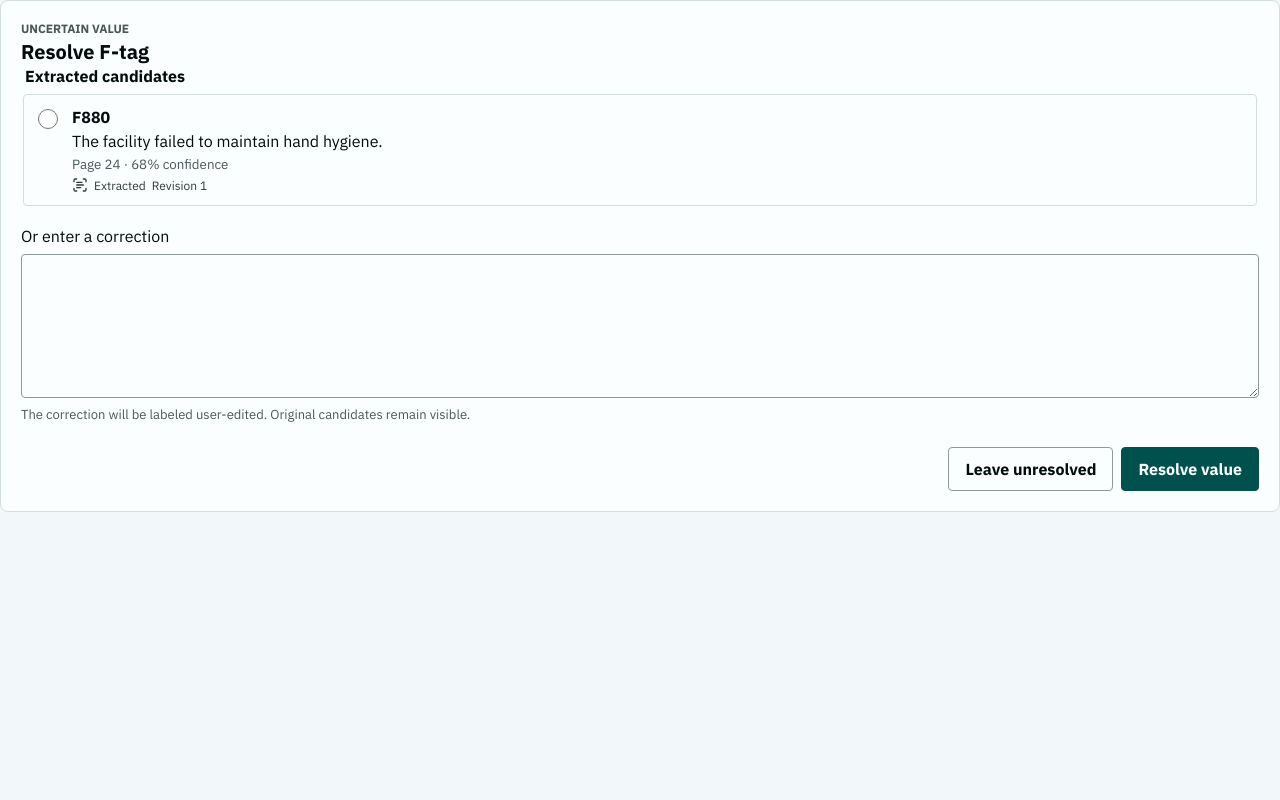
uncertainty resolution › keeps confirmation and drafting blocked when unresolved
This screenshot has width=1280, height=800.
Click the button "Leave unresolved" at [1031, 469], box [948,447,1113,491]
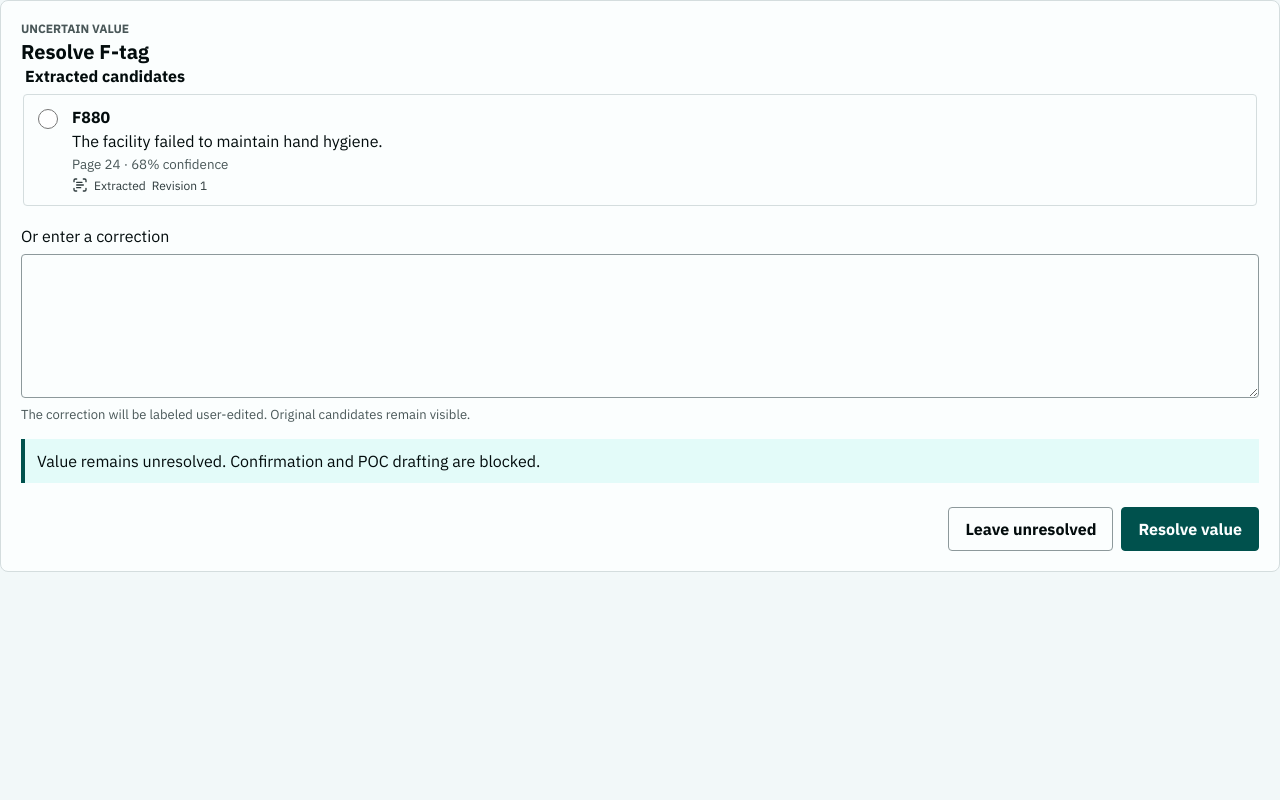
Expected: the text "Value remains unresolved. Confirmation and POC drafting are blocked." is shown, [21,439,1259,483]
